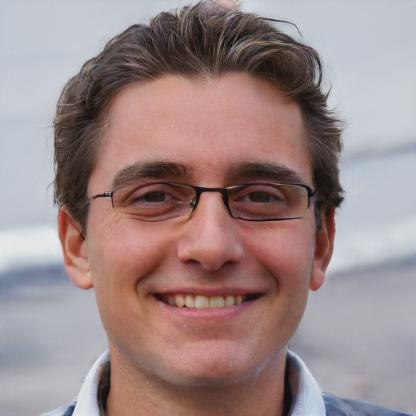glasses: (93, 170, 325, 238)
